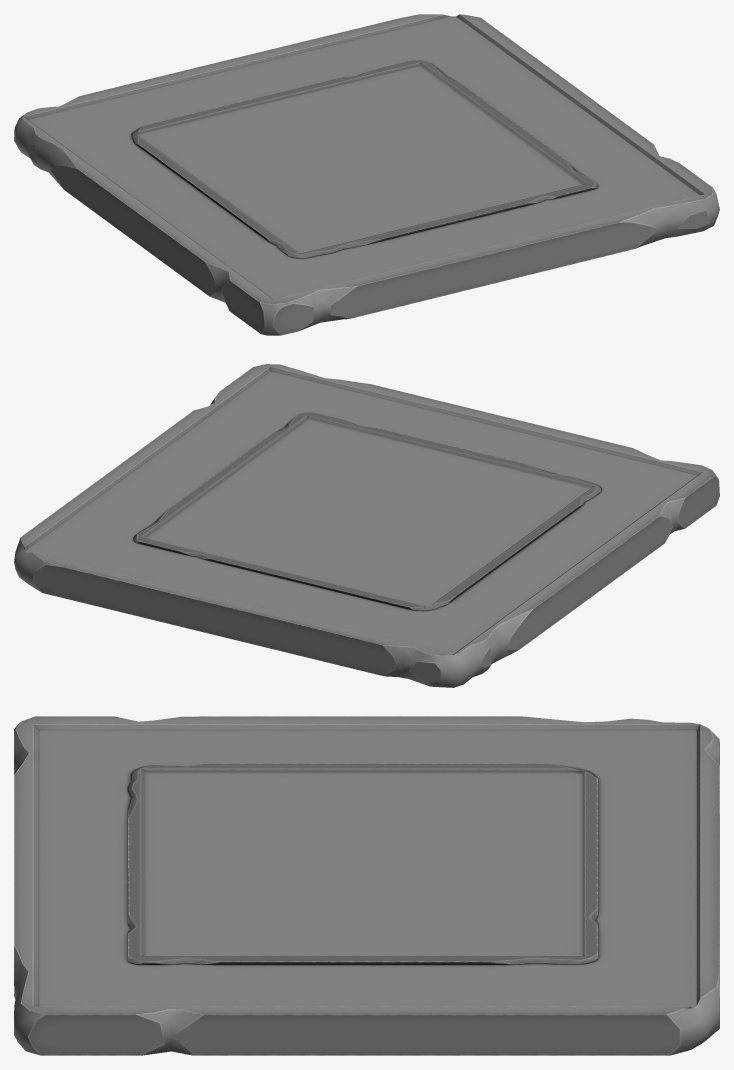
Rendered from MESH_SquareFloorTile.glb.
3 views of the same model, one above another, from view 1: azimuth 30°, elevation 25°; view 2: azimuth 150°, elevation 25°; view 3: azimuth 270°, elevation 25° (orthographic). The views are drawn at different scales.
Parts seen in each view (by area): view 1: MESH_FloorSquare.001; view 2: MESH_FloorSquare.001; view 3: MESH_FloorSquare.001.
Boxes of the visible parts, x1,y1,x2,y2 form: MESH_FloorSquare.001: (14,14,719,335); MESH_FloorSquare.001: (14,364,719,687); MESH_FloorSquare.001: (14,716,719,1055).
Bounding box in the file's own units: 3.58 × 0.2324 × 3.58.
Materials: 1 (1 with a texture image).
